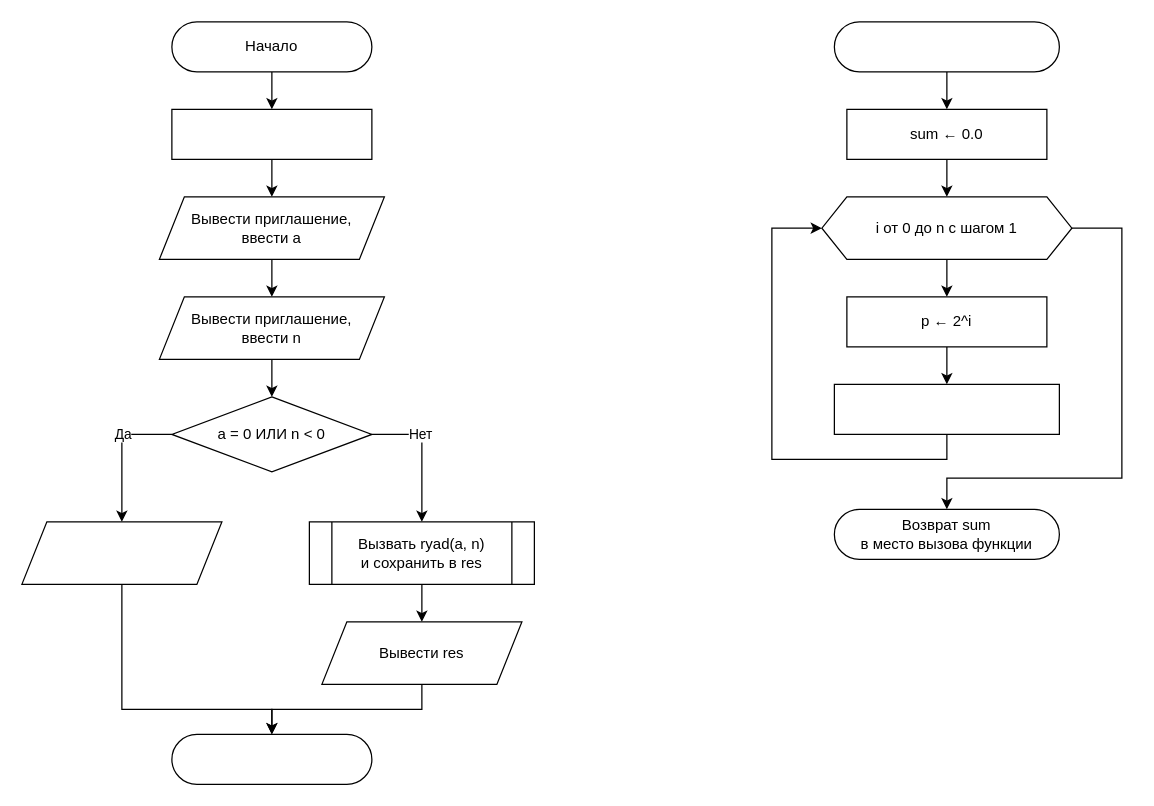
Some shapes in this 1154 by 806 pixel diagram are drawn without their labels. The centre of each missing label's shape, as x and y in pixels:
sum ← sum + 1.0 / (a^p): (x=946, y=408)
Вход в ryad Параметры: a, n: (x=946, y=46)
Вывести сообщение об ошибке: (x=121, y=552)
Конец Код завершения: 0: (x=271, y=758)
Установить локализацию: (x=271, y=133)
